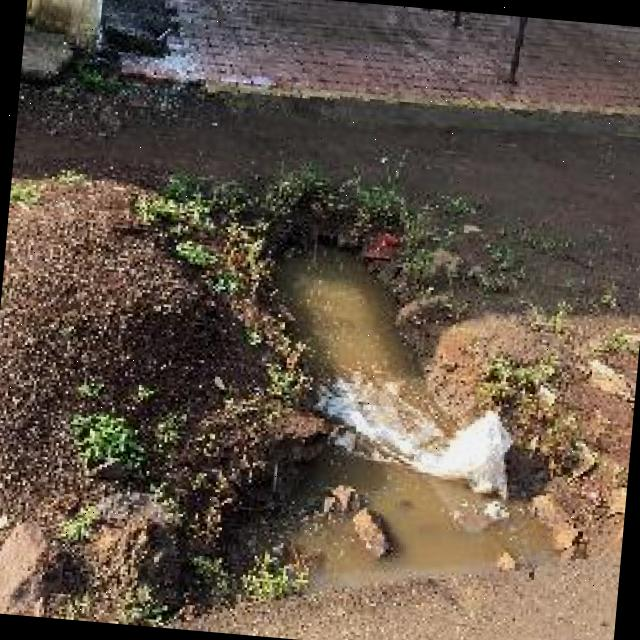stagnation: (261, 237, 433, 379)
